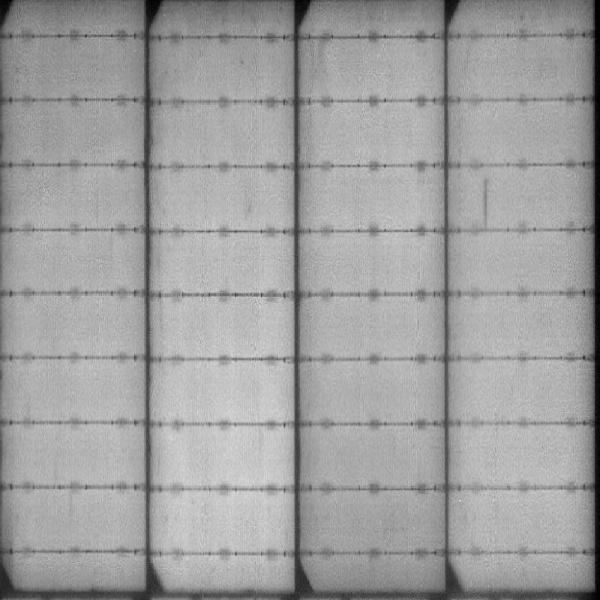scratch: (481, 181, 493, 231)
